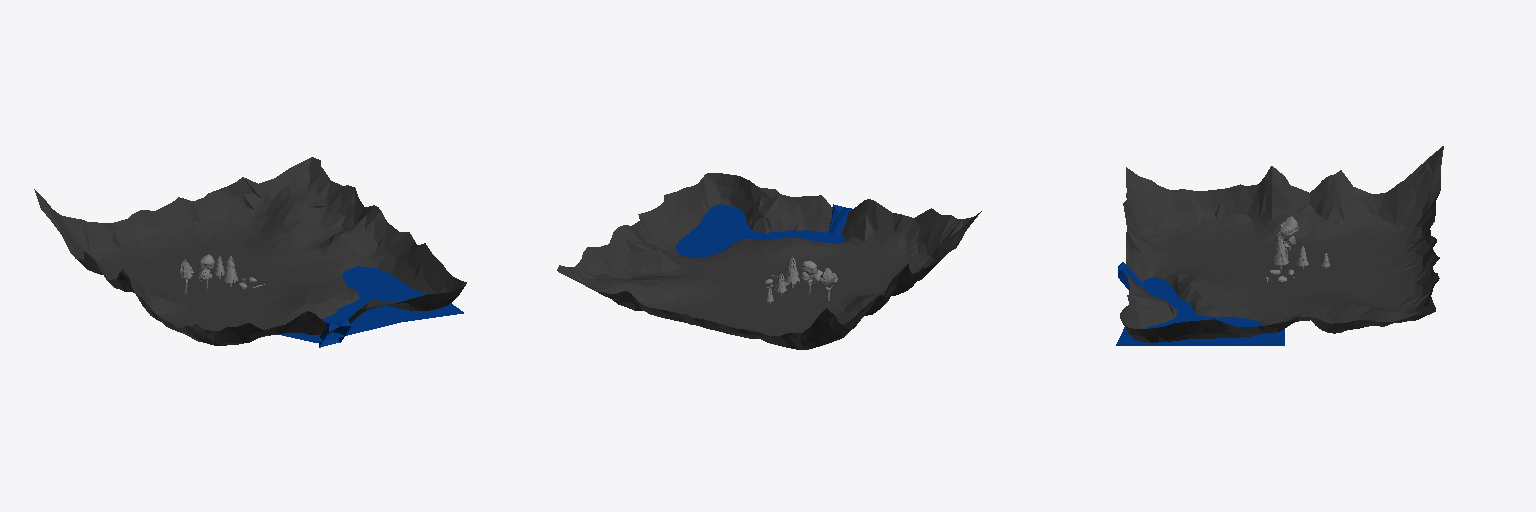
Rendered from Forest_ALL_test.obj.
3 renders of one model, left to right at view 1: azimuth 30°, elevation 25°; view 2: azimuth 150°, elevation 25°; view 3: azimuth 270°, elevation 25°, orthographic.
Parts seen in each view (by area): view 1: group1 Forest_ground, group1 Forest_water; view 2: group1 Forest_ground, group1 Forest_water; view 3: group1 Forest_ground, group1 Forest_water.
Boxes of the visible parts, box(x1,y1,x2,y2) form: group1 Forest_ground: box(34, 157, 466, 345); group1 Forest_water: box(279, 266, 463, 342); group1 Forest_ground: box(557, 173, 981, 349); group1 Forest_water: box(675, 204, 845, 257); group1 Forest_ground: box(1120, 146, 1443, 342); group1 Forest_water: box(1116, 277, 1284, 345).
Size of the model in its own units: 1708 by 491 by 1717.